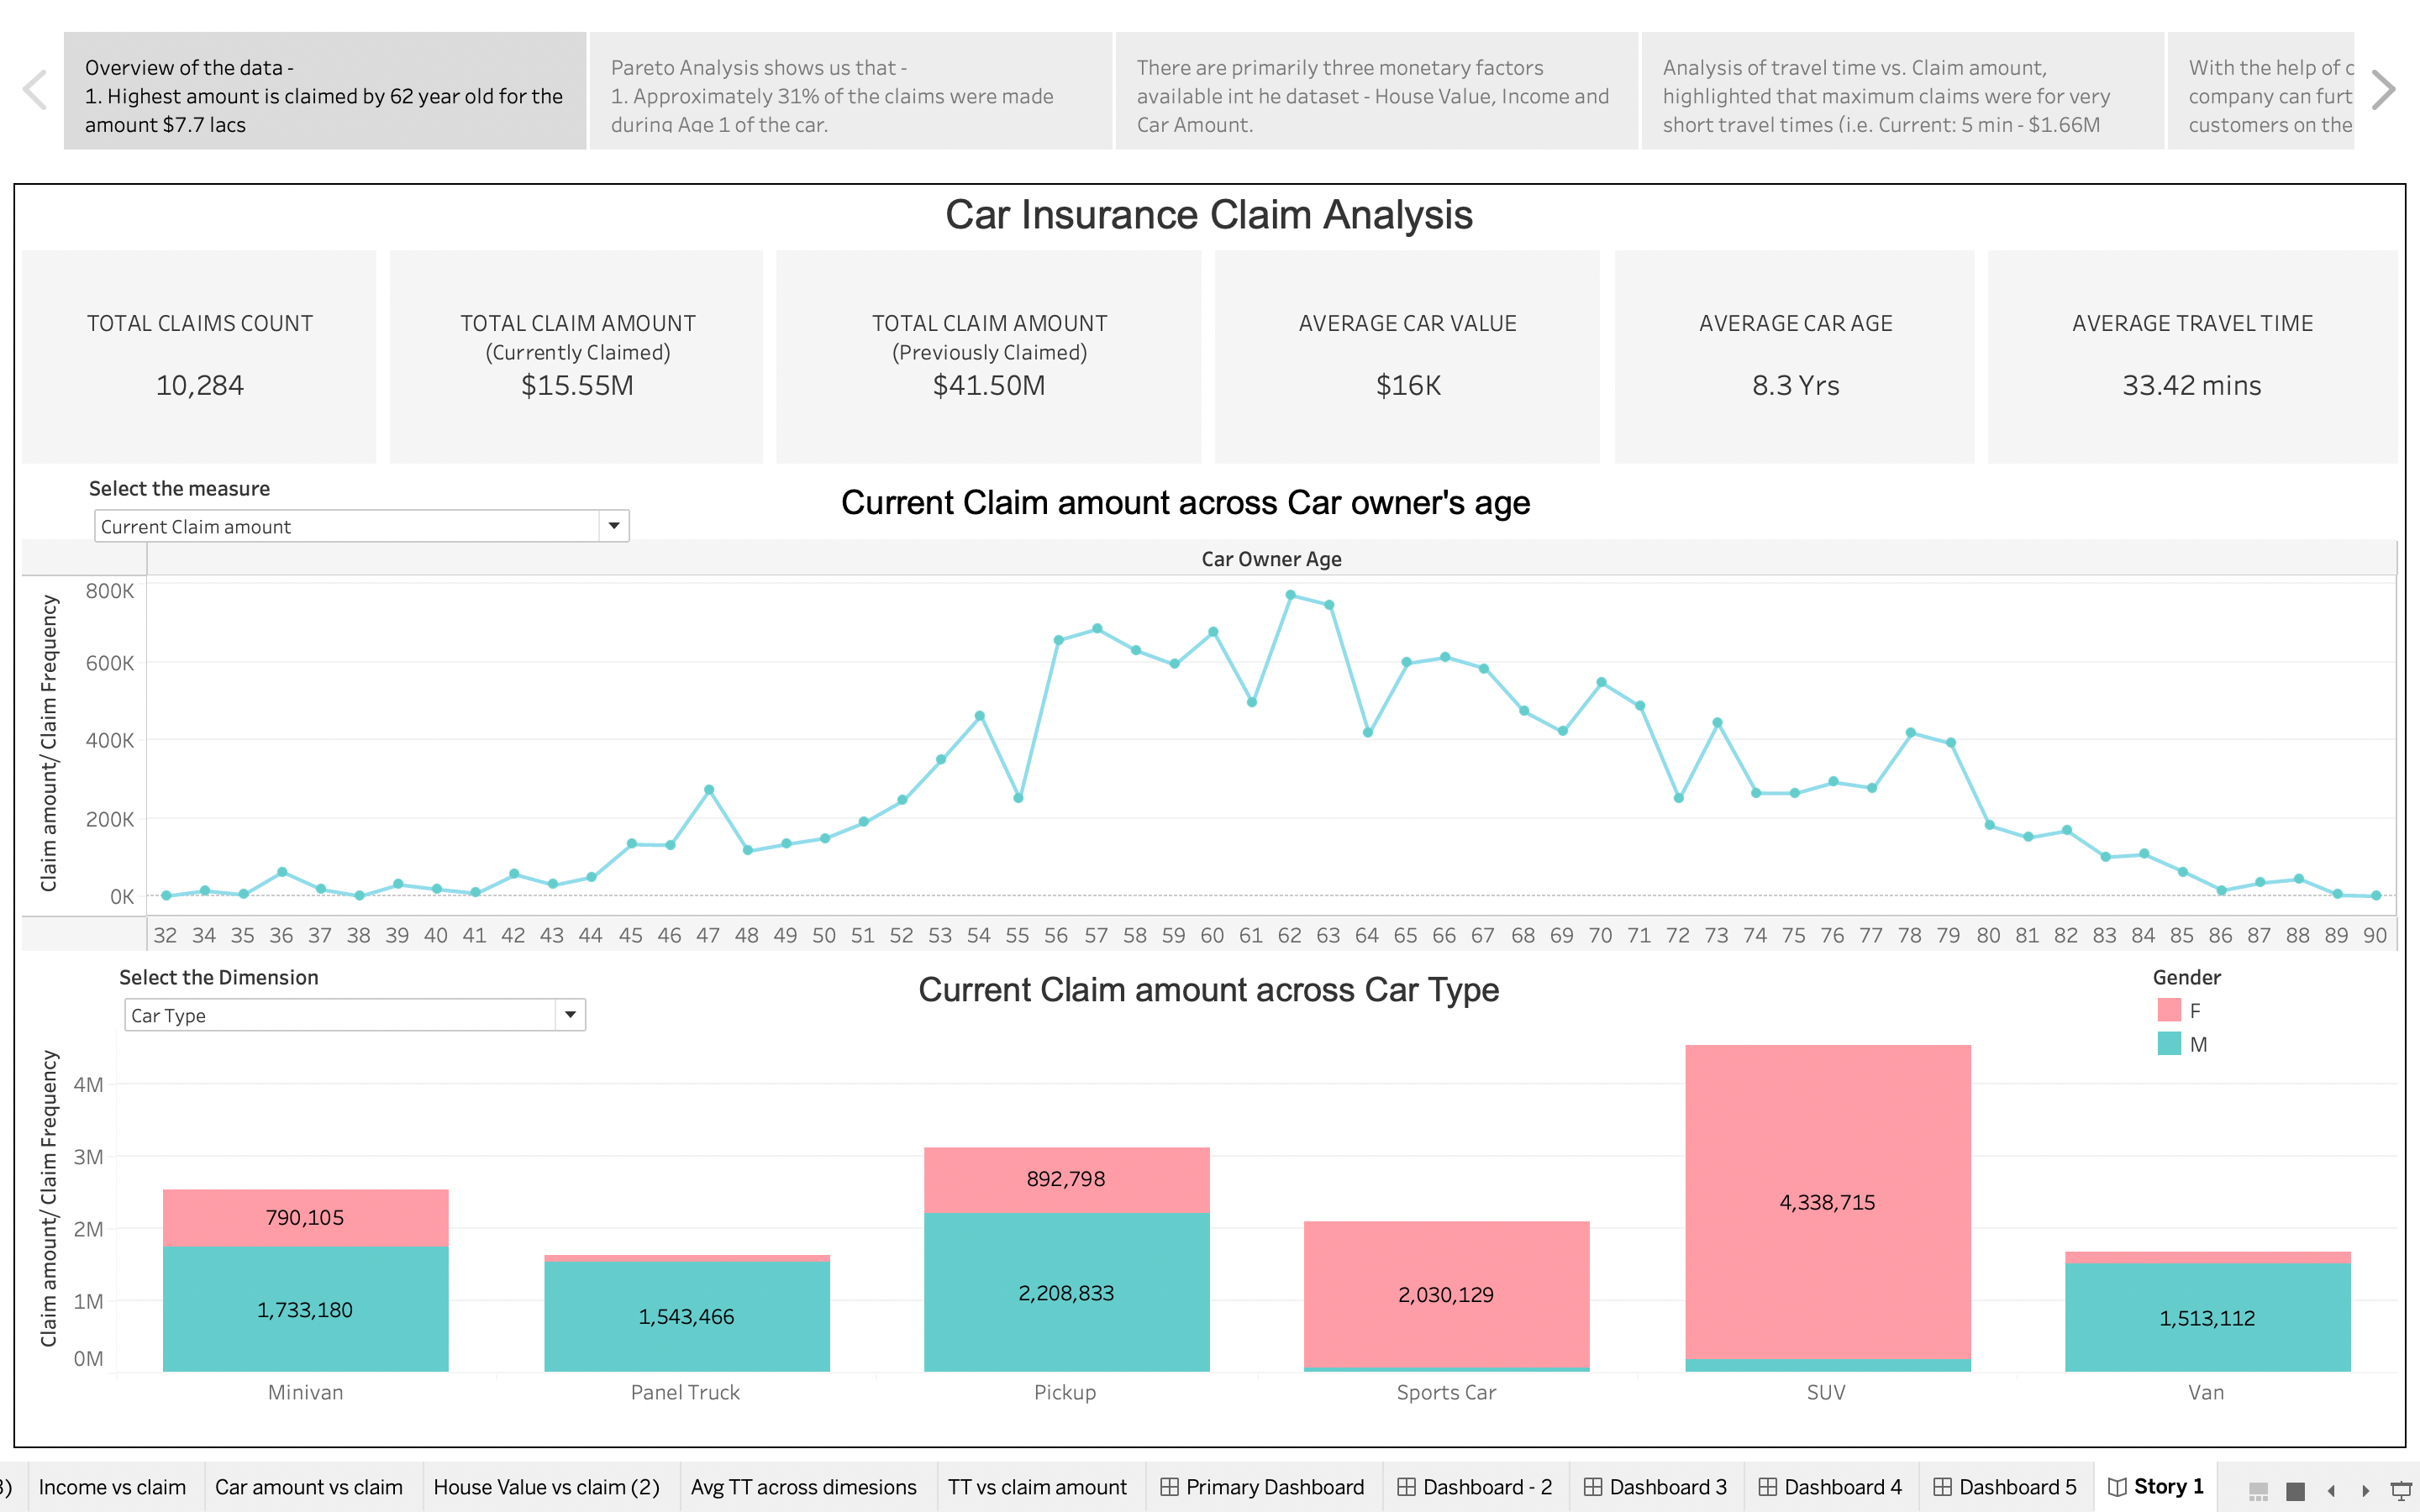

The page's visual inventory and layout, read from the dashboard file:
{"tool":"tableau","page":{"name":"Primary Dashboard","canvas":[1000,1000],"units":"permille","ordinal":4},"visuals":[{"type":"title","box":[0.8,1.3,998.4,46.4]},{"type":"worksheet","title":"Total count of claims","mark":"Automatic","box":[0.8,47.7,153.4,179.1]},{"type":"worksheet","title":"Total claim amount","mark":"Automatic","box":[154.2,47.7,161.9,179.1]},{"type":"worksheet","title":"Total claim amount _Previous","mark":"Automatic","box":[316.1,47.7,183.4,179.1]},{"type":"worksheet","title":"Average car value","mark":"Automatic","box":[499.5,47.7,166.6,179.1]},{"type":"worksheet","title":"Average Car age","mark":"Automatic","box":[666.1,47.7,156.3,179.1]},{"type":"worksheet","title":"Average Travel Time (2)","mark":"Automatic","box":[822.3,47.7,176.8,179.1]},{"type":"worksheet","title":"Date of birth old claim and gender","mark":"Circle","rows":["Calculation_3880273345730838538","Calculation_3880273345730838538"],"cols":["Age"],"box":[0.8,226.8,998.4,385.9]},{"type":"parameter","param":"[Parameters].[Parameter 1]","box":[31.8,230.2,228.2,110.2]},{"type":"worksheet","title":"Car type vs claim vs gender","mark":"Bar","rows":["Calculation_3880273345730838538"],"cols":["Calculation_3880273345766084629"],"box":[0.8,612.7,998.4,386]},{"type":"parameter","param":"[Parameters].[Parameter 3]","box":[44,615.8,197.4,86.2]},{"type":"legend","title":"Car type vs claim vs gender","param":"[federated.117adju1jkviwz103imj819wjg8t].[none:Gender:nk]","box":[894.3,615.8,49.6,96]}]}

Visuals, with their boxes on the dashboard's canvas, which has no fixed pixel size, in thousandths of its width and height (x1, y1, x2, y2). These are canvas units, not pixel positions in the 2420x1512 screenshot, which may show the page scaled, cropped or inside an application window:
title: (1, 1, 999, 48)
"Total count of claims" worksheet: (1, 48, 154, 227)
"Total claim amount" worksheet: (154, 48, 316, 227)
"Total claim amount _Previous" worksheet: (316, 48, 500, 227)
"Average car value" worksheet: (500, 48, 666, 227)
"Average Car age" worksheet: (666, 48, 822, 227)
"Average Travel Time (2)" worksheet: (822, 48, 999, 227)
"Date of birth old claim and gender" worksheet (Circle marks): (1, 227, 999, 613)
parameter: (32, 230, 260, 340)
"Car type vs claim vs gender" worksheet (Bar marks): (1, 613, 999, 999)
parameter: (44, 616, 241, 702)
"Car type vs claim vs gender" legend: (894, 616, 944, 712)
